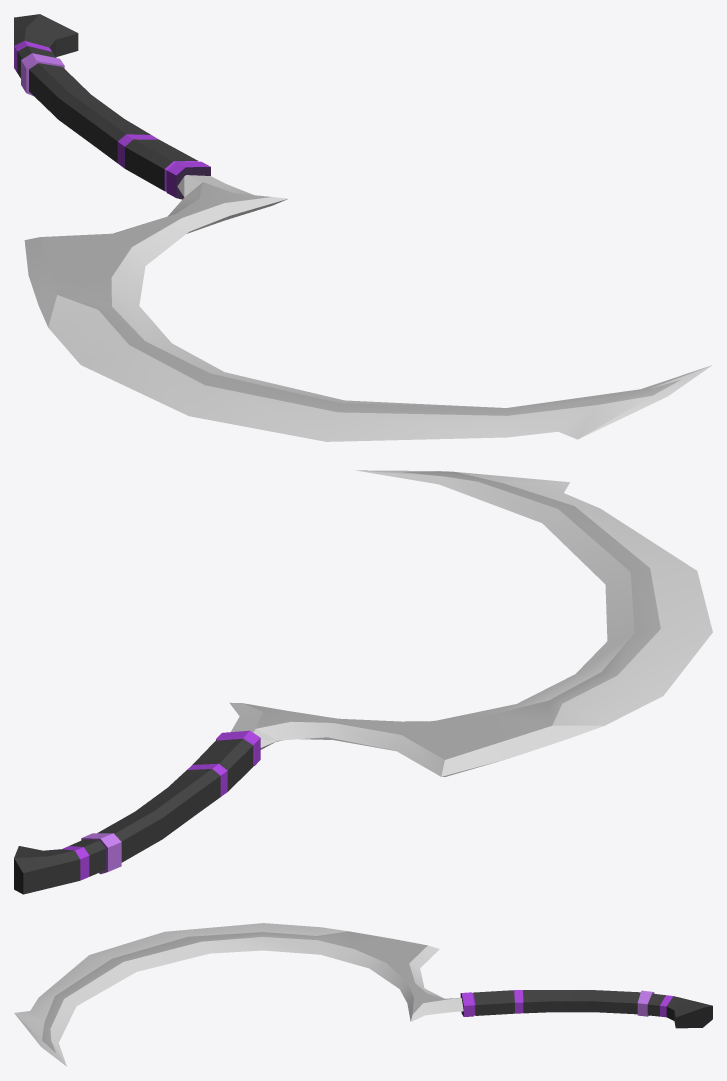
The model's file is ReaperScythe_3D.glb.
3 views of the same model, one above another, from view 1: azimuth 30°, elevation 25°; view 2: azimuth 150°, elevation 25°; view 3: azimuth 270°, elevation 25° (orthographic). The views are drawn at different scales.
Parts seen in each view (by area): view 1: ReaperScythe; view 2: ReaperScythe; view 3: ReaperScythe.
Part boxes in pixels (bbox=[...]): ReaperScythe: bbox=[14, 14, 712, 441]; ReaperScythe: bbox=[14, 470, 712, 894]; ReaperScythe: bbox=[14, 923, 712, 1066].
Bounding box in the file's own units: 0.951 × 0.0701 × 1.95.
Materials: 1 (1 with a texture image).
